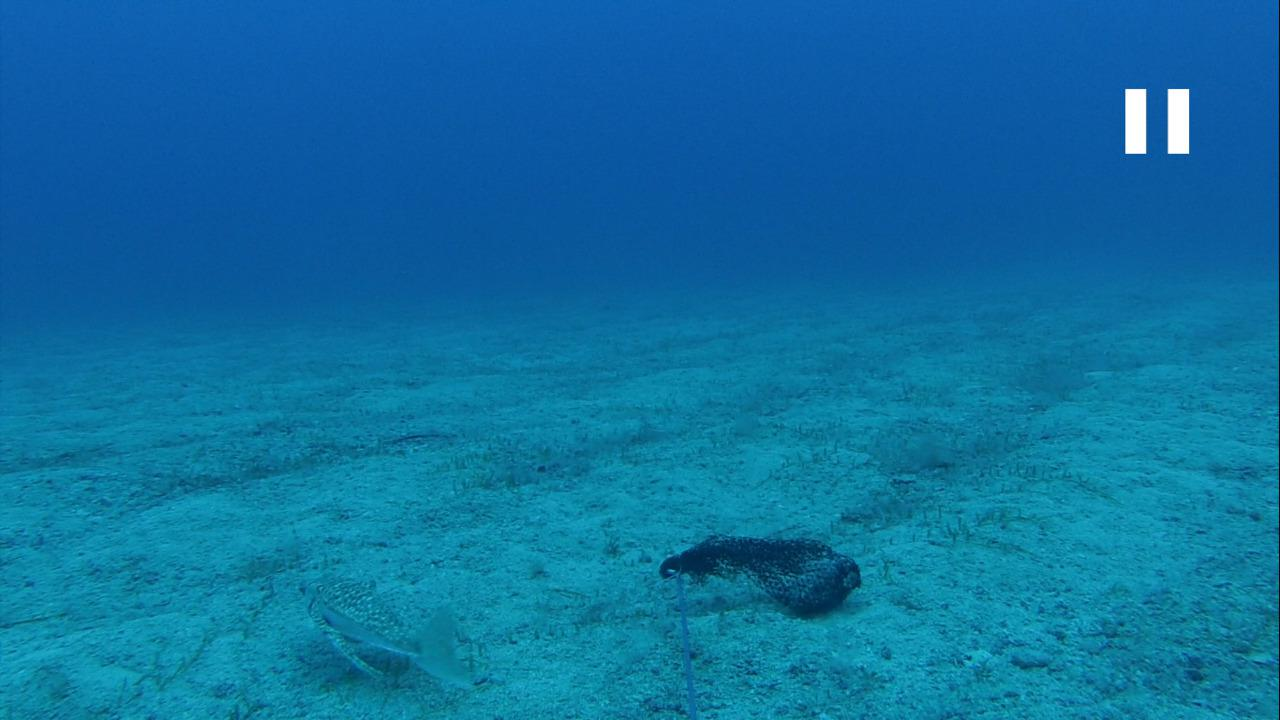dactylopterus: (279, 567, 474, 695)
